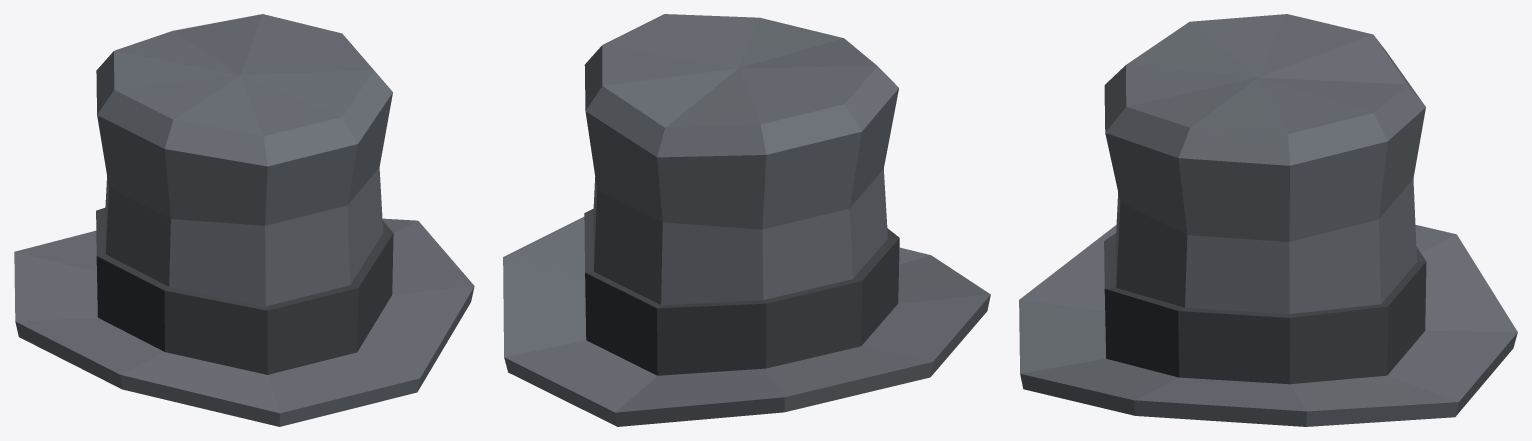
Rendered from TopHat.fbx.
3 views of the same model, side by side, from view 1: azimuth 30°, elevation 25°; view 2: azimuth 150°, elevation 25°; view 3: azimuth 270°, elevation 25° (orthographic). The views are drawn at different scales.
Visible parts, largest first — view 1: TopHat; view 2: TopHat; view 3: TopHat.
Part boxes in pixels (x1=…): TopHat: x1=14, y1=14, x2=474, y2=426; TopHat: x1=503, y1=14, x2=990, y2=426; TopHat: x1=1019, y1=14, x2=1517, y2=426.
Size of the model in its own units: 4.11 by 2.51 by 4.05.
